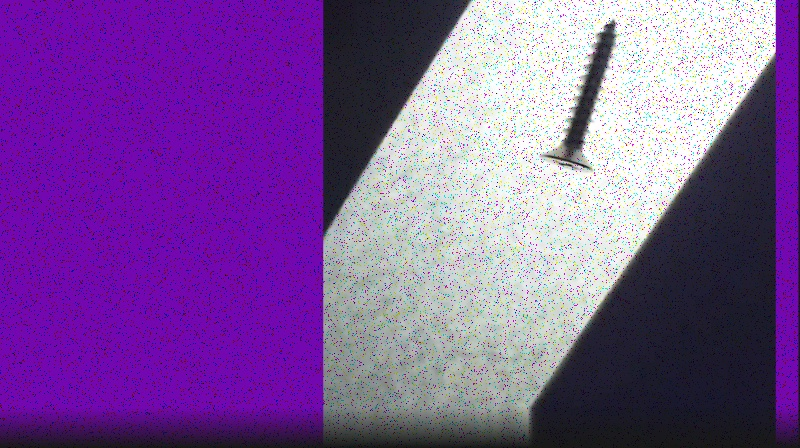S001: (537, 17, 623, 177)
